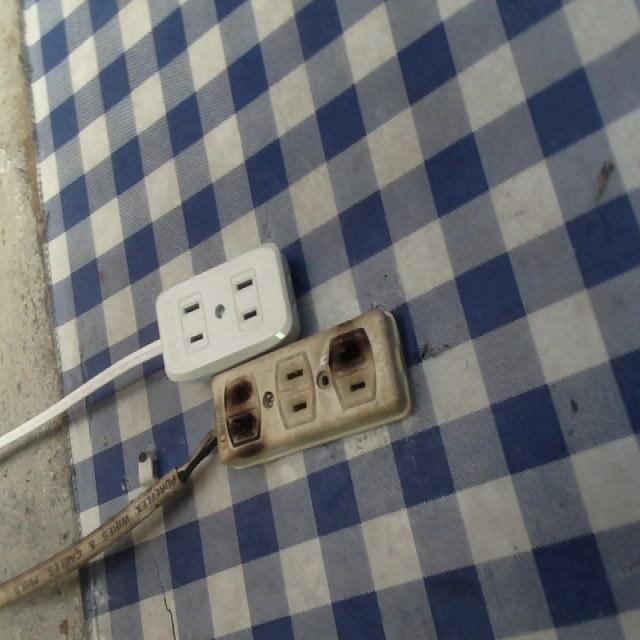-: (214, 373, 265, 456), (324, 328, 376, 375)
